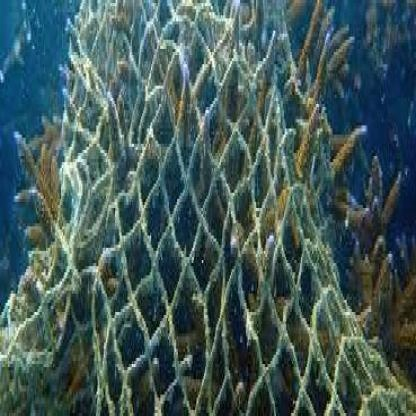net: (10, 3, 404, 413)
